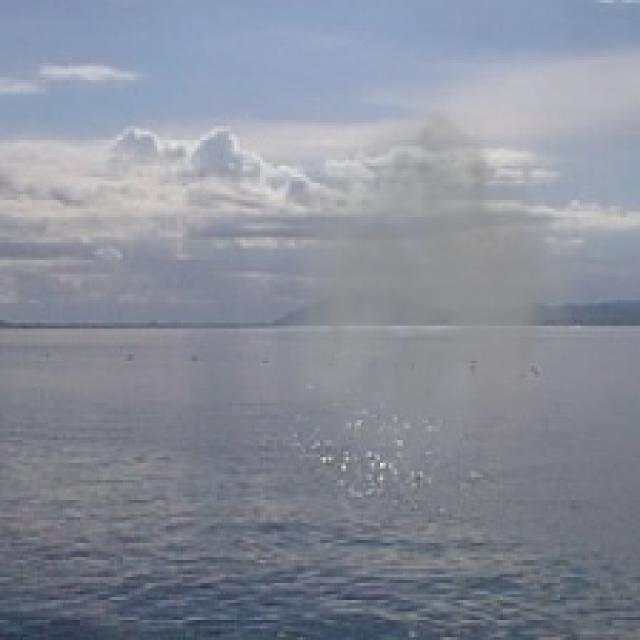smoke: (269, 91, 614, 500)
